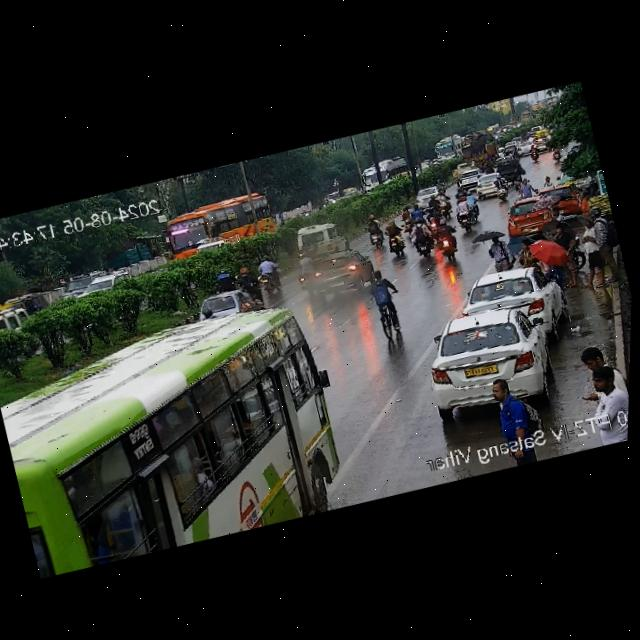bus: (0, 307, 358, 583), (156, 186, 280, 264), (357, 154, 411, 190), (429, 130, 469, 161)
car: (412, 285, 576, 425), (454, 255, 568, 344), (292, 242, 376, 303), (500, 190, 567, 242), (531, 180, 592, 227), (194, 284, 258, 324), (290, 218, 346, 262), (79, 263, 135, 303), (491, 155, 527, 184), (411, 183, 449, 210), (473, 170, 507, 197), (456, 167, 484, 190)
motorcycle: (429, 214, 465, 265), (377, 219, 409, 263), (404, 214, 436, 255), (449, 197, 478, 236), (254, 254, 283, 284), (365, 215, 384, 248), (492, 172, 513, 199), (409, 200, 426, 225)
person: (484, 372, 548, 470), (569, 357, 630, 449), (567, 210, 625, 290), (486, 232, 514, 274), (511, 237, 536, 271), (516, 175, 536, 203)
